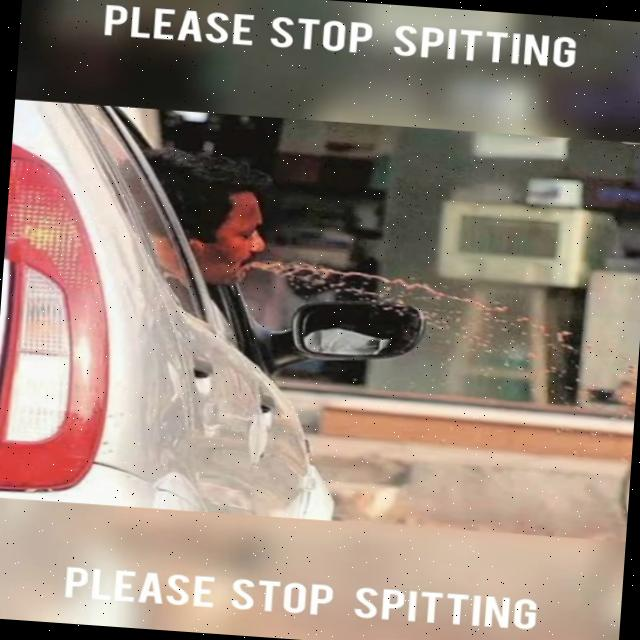spit: (158, 154, 616, 378)
